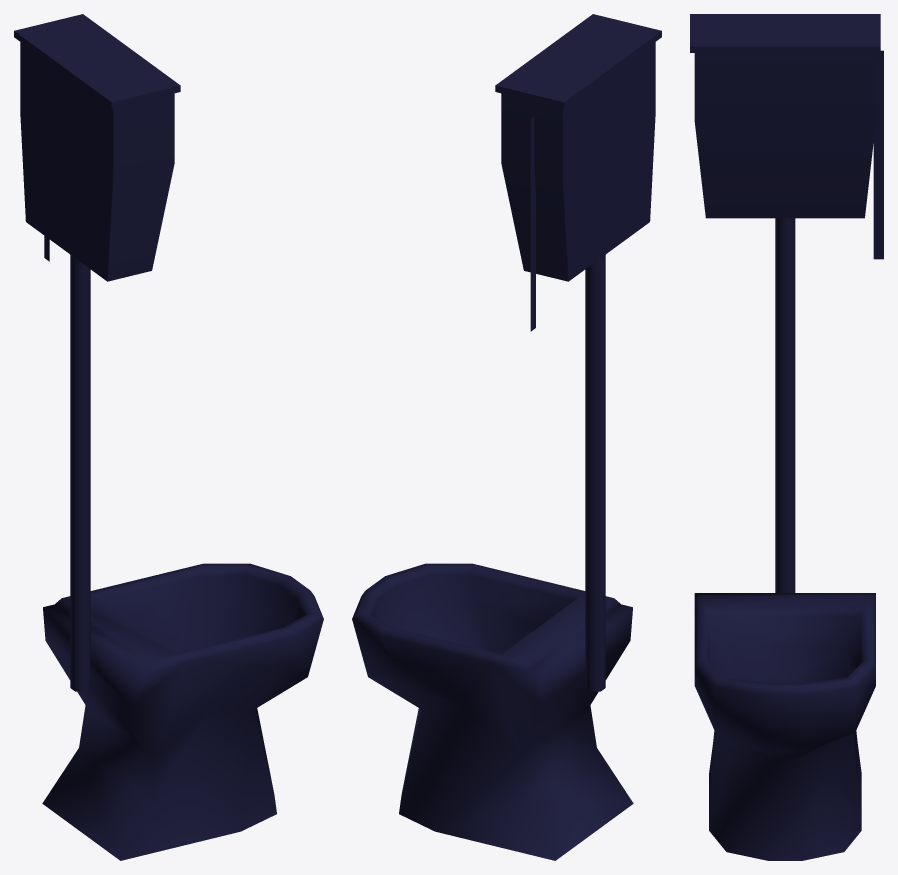
Rendered from toilet.glb.
3 renders of one model, left to right at view 1: azimuth 30°, elevation 25°; view 2: azimuth 150°, elevation 25°; view 3: azimuth 270°, elevation 25°, orthographic. The views are drawn at different scales.
Visible parts, largest first — view 1: Kibel, Baczek; view 2: Kibel, Baczek; view 3: Baczek, Kibel.
Boxes of the visible parts, x1=… form: Kibel: x1=42, y1=563, x2=323, y2=860; Baczek: x1=14, y1=14, x2=180, y2=691; Kibel: x1=352, y1=563, x2=633, y2=860; Baczek: x1=495, y1=14, x2=661, y2=691; Baczek: x1=690, y1=14, x2=883, y2=592; Kibel: x1=694, y1=593, x2=875, y2=860.
Size of the model in its own units: 0.6603 by 2.01 by 0.4707.
